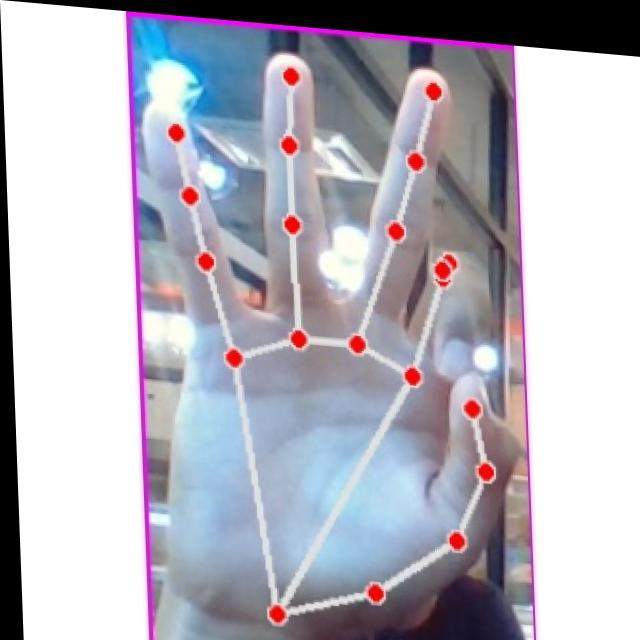F: (136, 37, 509, 640)
